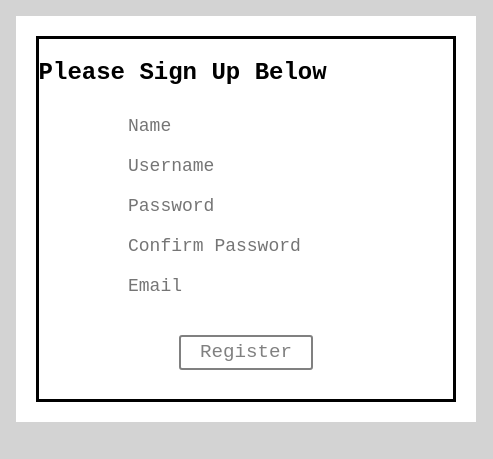
Test: try to register when password and confirm password don't match
Simulate user events
Type "testuser" into the field with placeholder "Username". click: (246, 166)
box: [123,146,369,186]
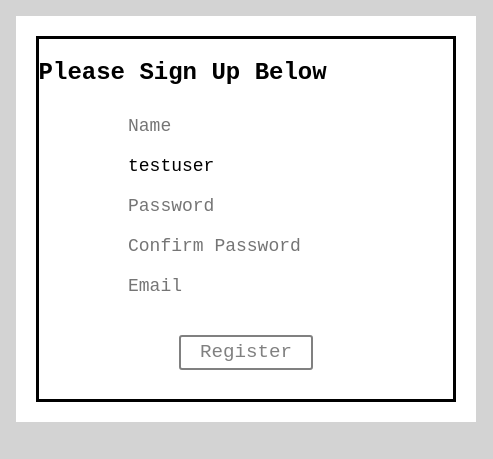
Type "password" into the password field with placeholder "Password". click: (246, 206)
box: [123,186,369,226]
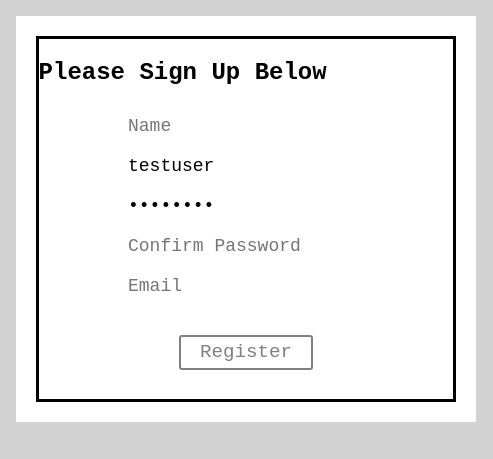
Type "password1" into the password field with placeholder "Confirm Password". click: (246, 246)
box: [123,226,369,266]
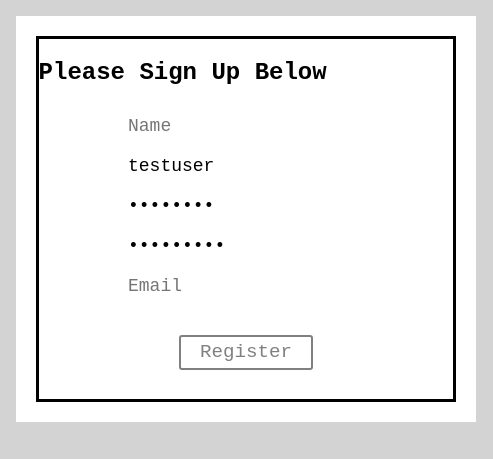
Type "test@test.com" into the field with placeholder "Email". click: (246, 286)
box: [123,266,369,306]
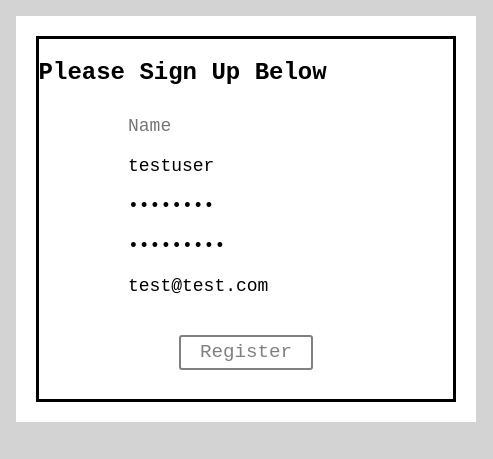
Click the button "Register". click: (246, 352)
box: [179,335,313,370]
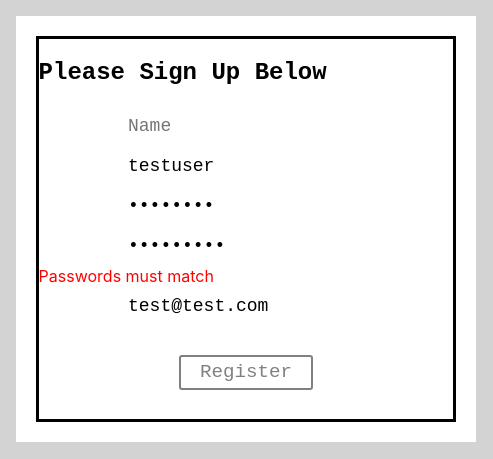
Check: the text "Passwords must match" is shown, box [39,266,214,286]
